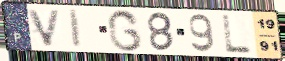8: (146, 11, 175, 53)
9: (188, 12, 217, 53)
G: (106, 8, 144, 53)
I: (67, 9, 84, 50)
L: (221, 13, 255, 55)
V: (26, 8, 63, 48)
